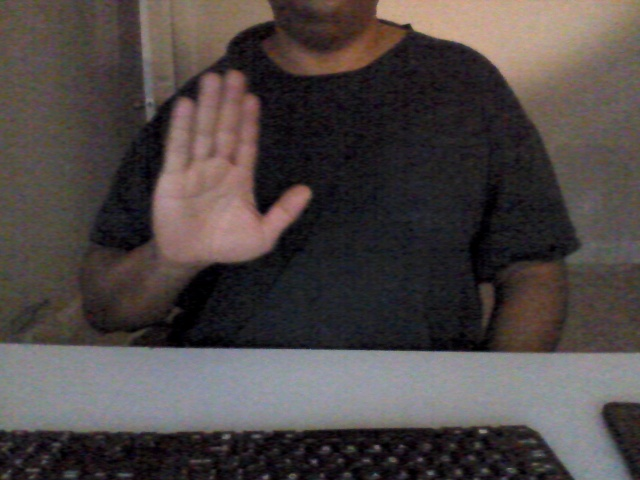hello: (150, 68, 315, 271)
